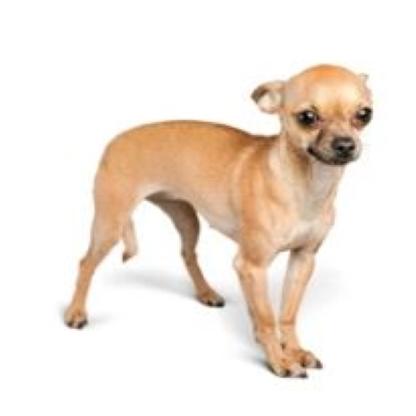chihuahua: (61, 64, 378, 378)
